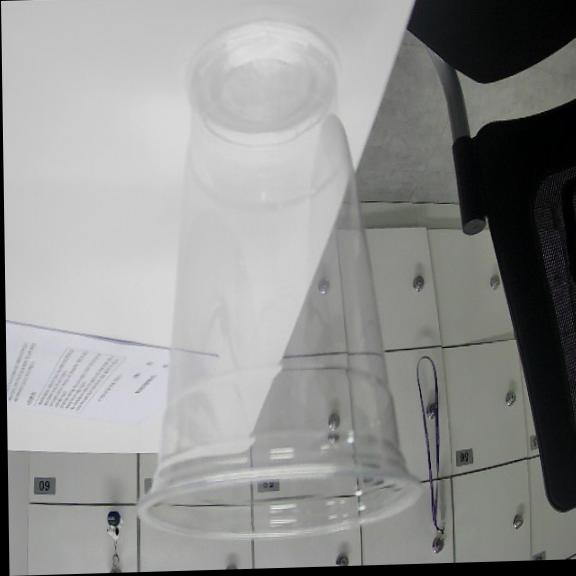Plastik: (138, 22, 420, 538)
